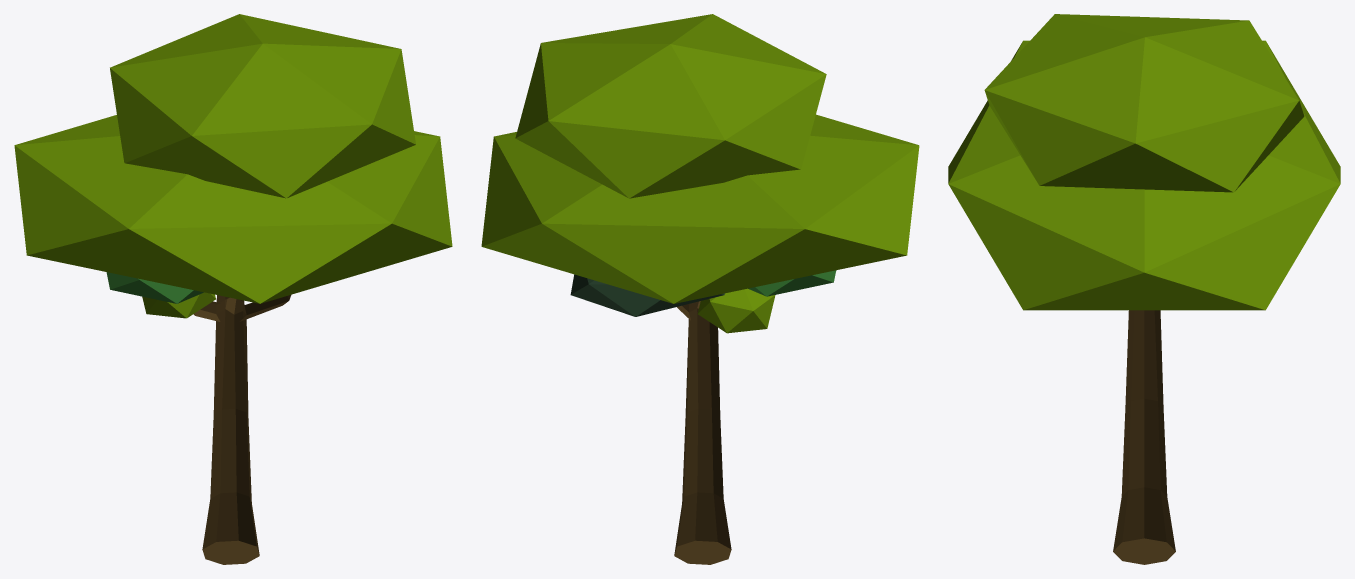
Rendered from M_tree4.fbx.
3 renders of one model, left to right at view 1: azimuth 30°, elevation 25°; view 2: azimuth 150°, elevation 25°; view 3: azimuth 270°, elevation 25°, orthographic. The views are drawn at different scales.
Visible parts, largest first — view 1: Icosphere; view 2: Icosphere; view 3: Icosphere.
Part boxes in pixels (x1,y1,x2,y2): Icosphere: (14,14,452,564); Icosphere: (481,14,919,564); Icosphere: (948,14,1340,564).
Size of the model in its own units: 2183 by 2529 by 1694.
